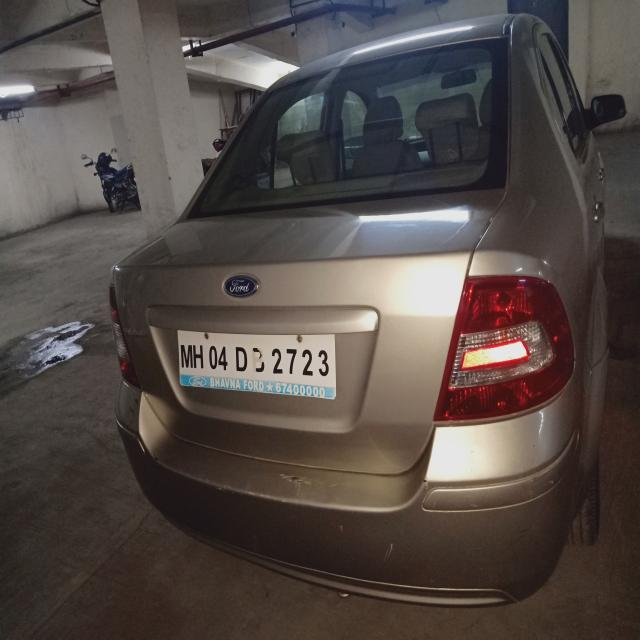Number-Plate: (176, 332, 336, 398)
